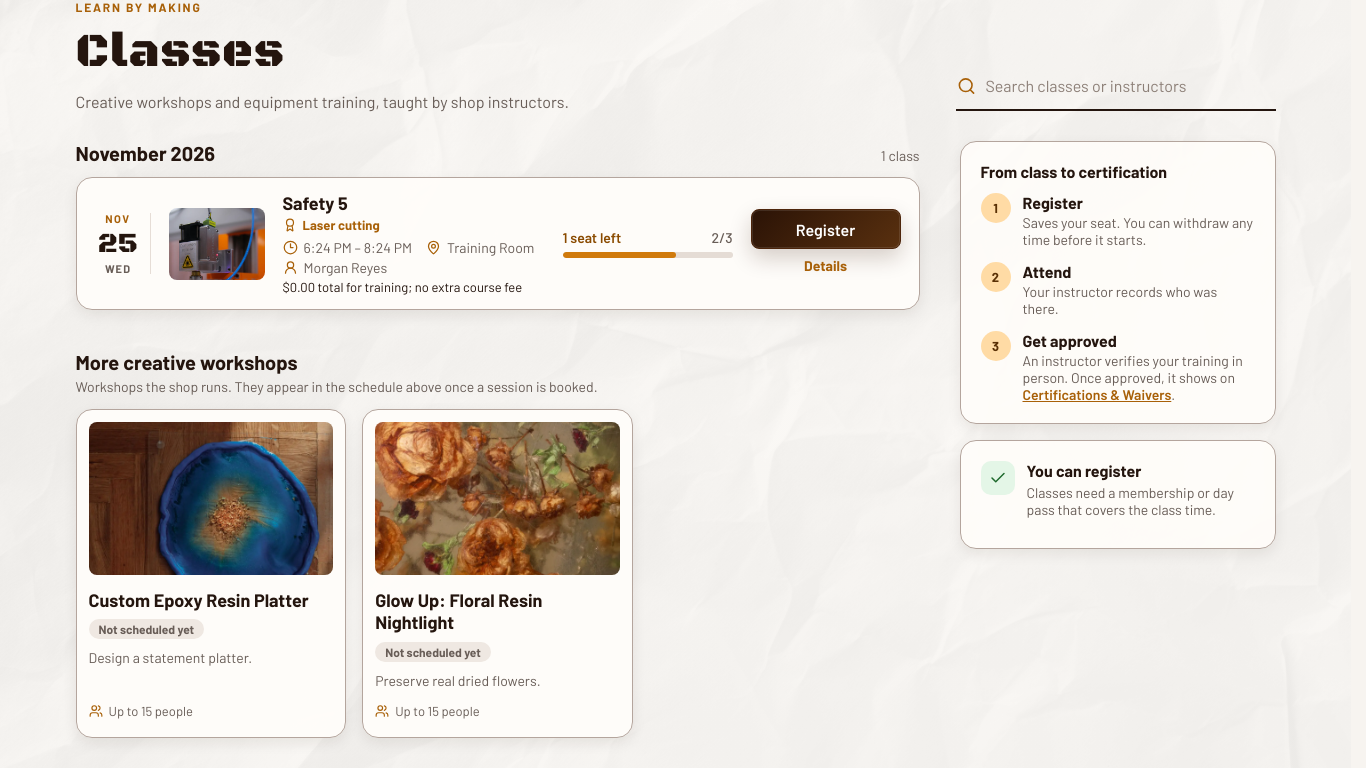
Test: members outside a class see open seats but not who registered
Click the button with aria-label "Details for Safety 5". click: (826, 266)
box: x1=800 y1=253 x2=851 y2=278
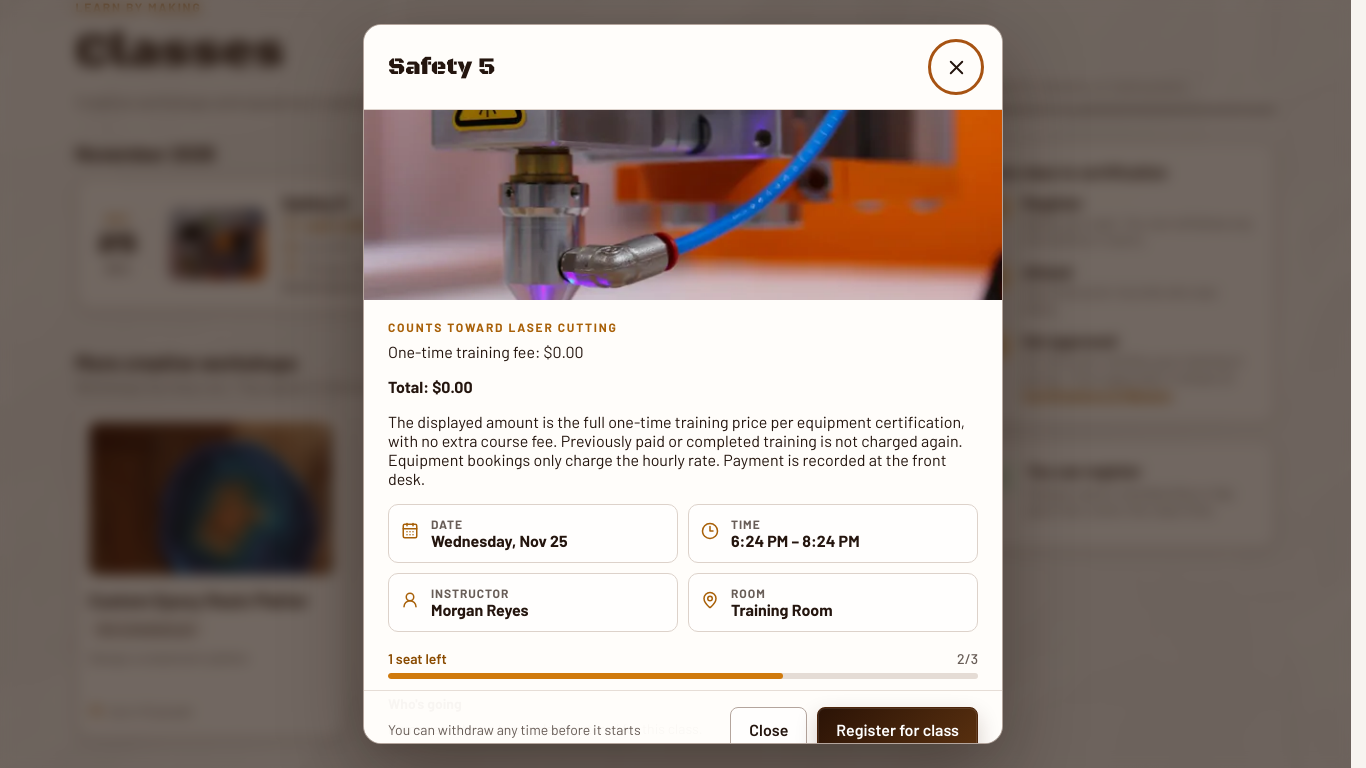
Now the text "Names are shown to people registered for this class." is shown, box x1=388 y1=720 x2=703 y2=737
